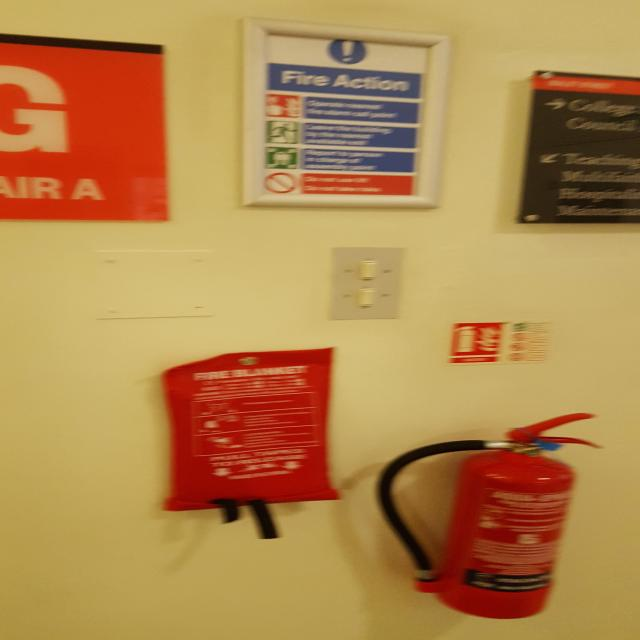Fire-Extinguisher: (375, 410, 602, 619)
